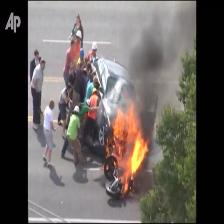fire: (115, 113, 146, 180)
smoke: (130, 25, 165, 110)
